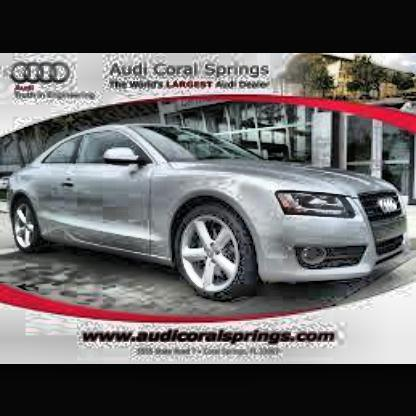Audi A5 Coupe 2012: (6, 119, 415, 305)
